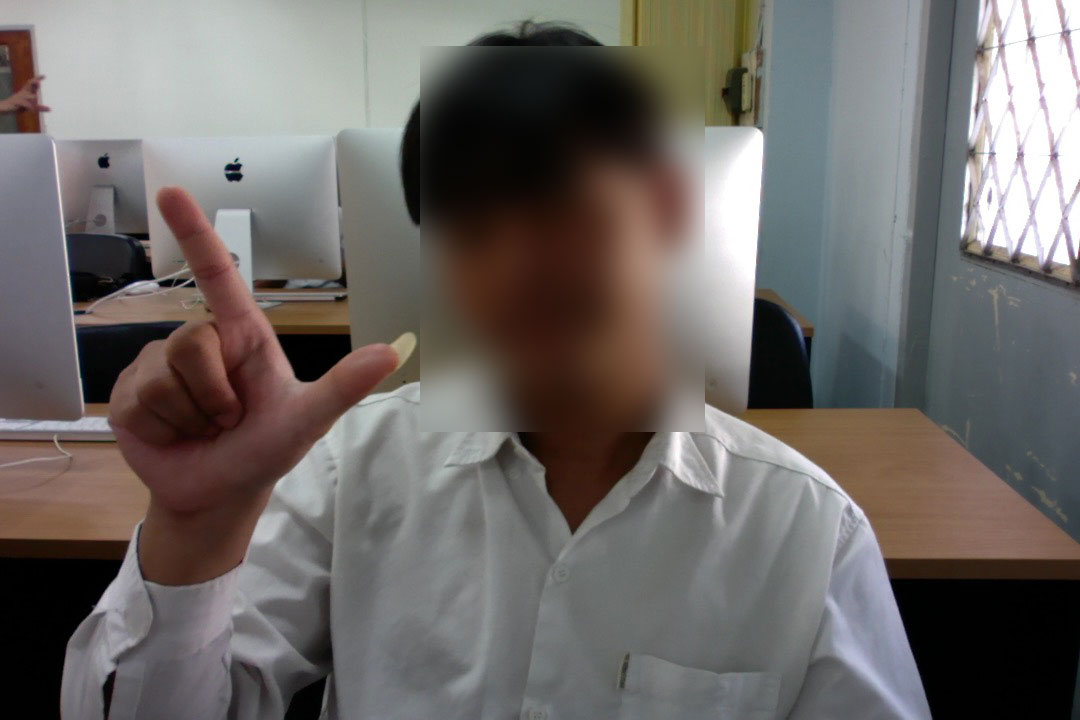lor: (99, 175, 424, 543)
